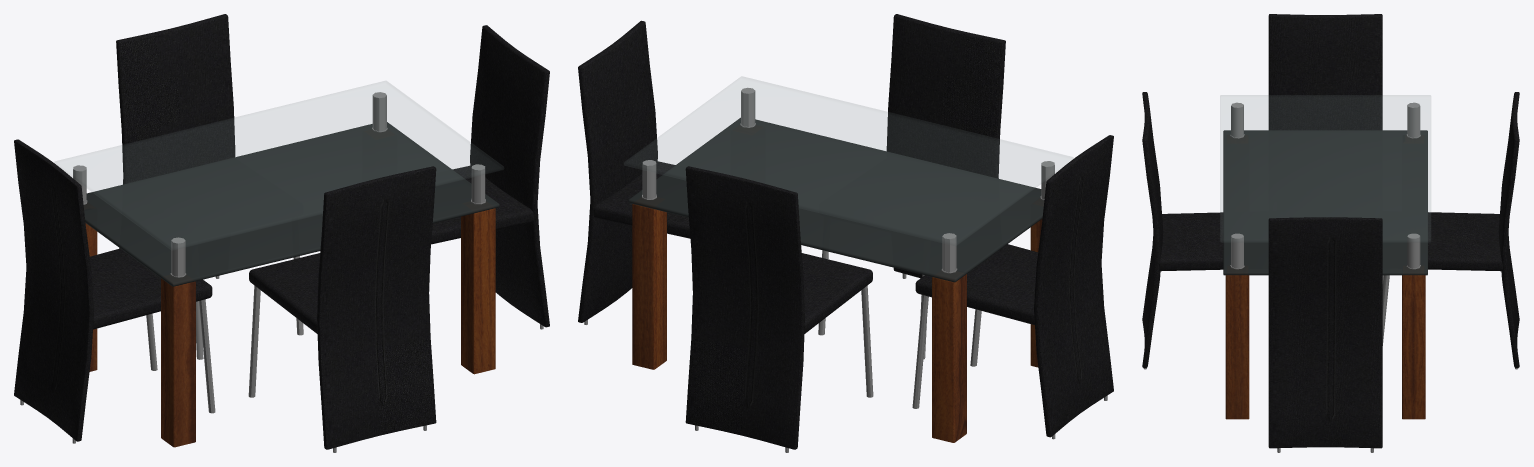
File: Four_Seater_Dining_Table_07.fbx
3 renders of one model, left to right at view 1: azimuth 30°, elevation 25°; view 2: azimuth 150°, elevation 25°; view 3: azimuth 270°, elevation 25°, orthographic. The views are drawn at different scales.
Parts seen in each view (by area): view 1: Cube.017; view 2: Cube.017; view 3: Cube.017.
Part boxes in pixels (bbox=[...]): Cube.017: bbox=[14, 14, 549, 452]; Cube.017: bbox=[578, 14, 1113, 452]; Cube.017: bbox=[1142, 14, 1519, 452].
Size of the model in its own units: 185 by 97.57 by 143.
Materials: 4 (1 with a texture image).
